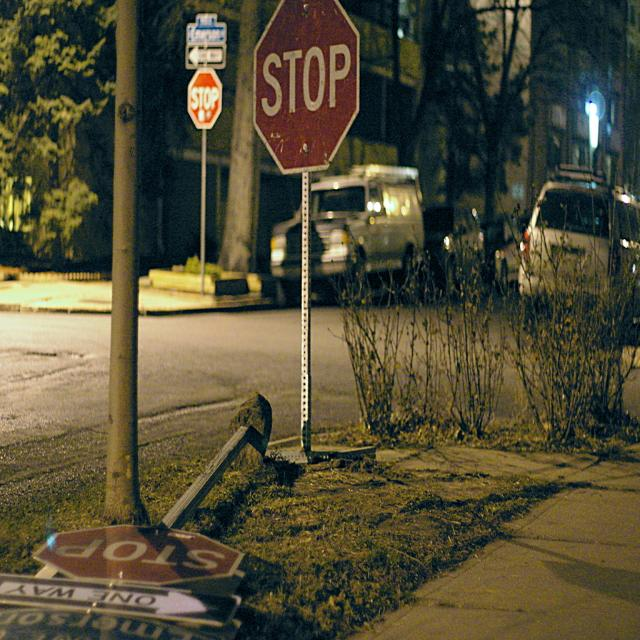Stop-sign: (252, 0, 362, 171)
